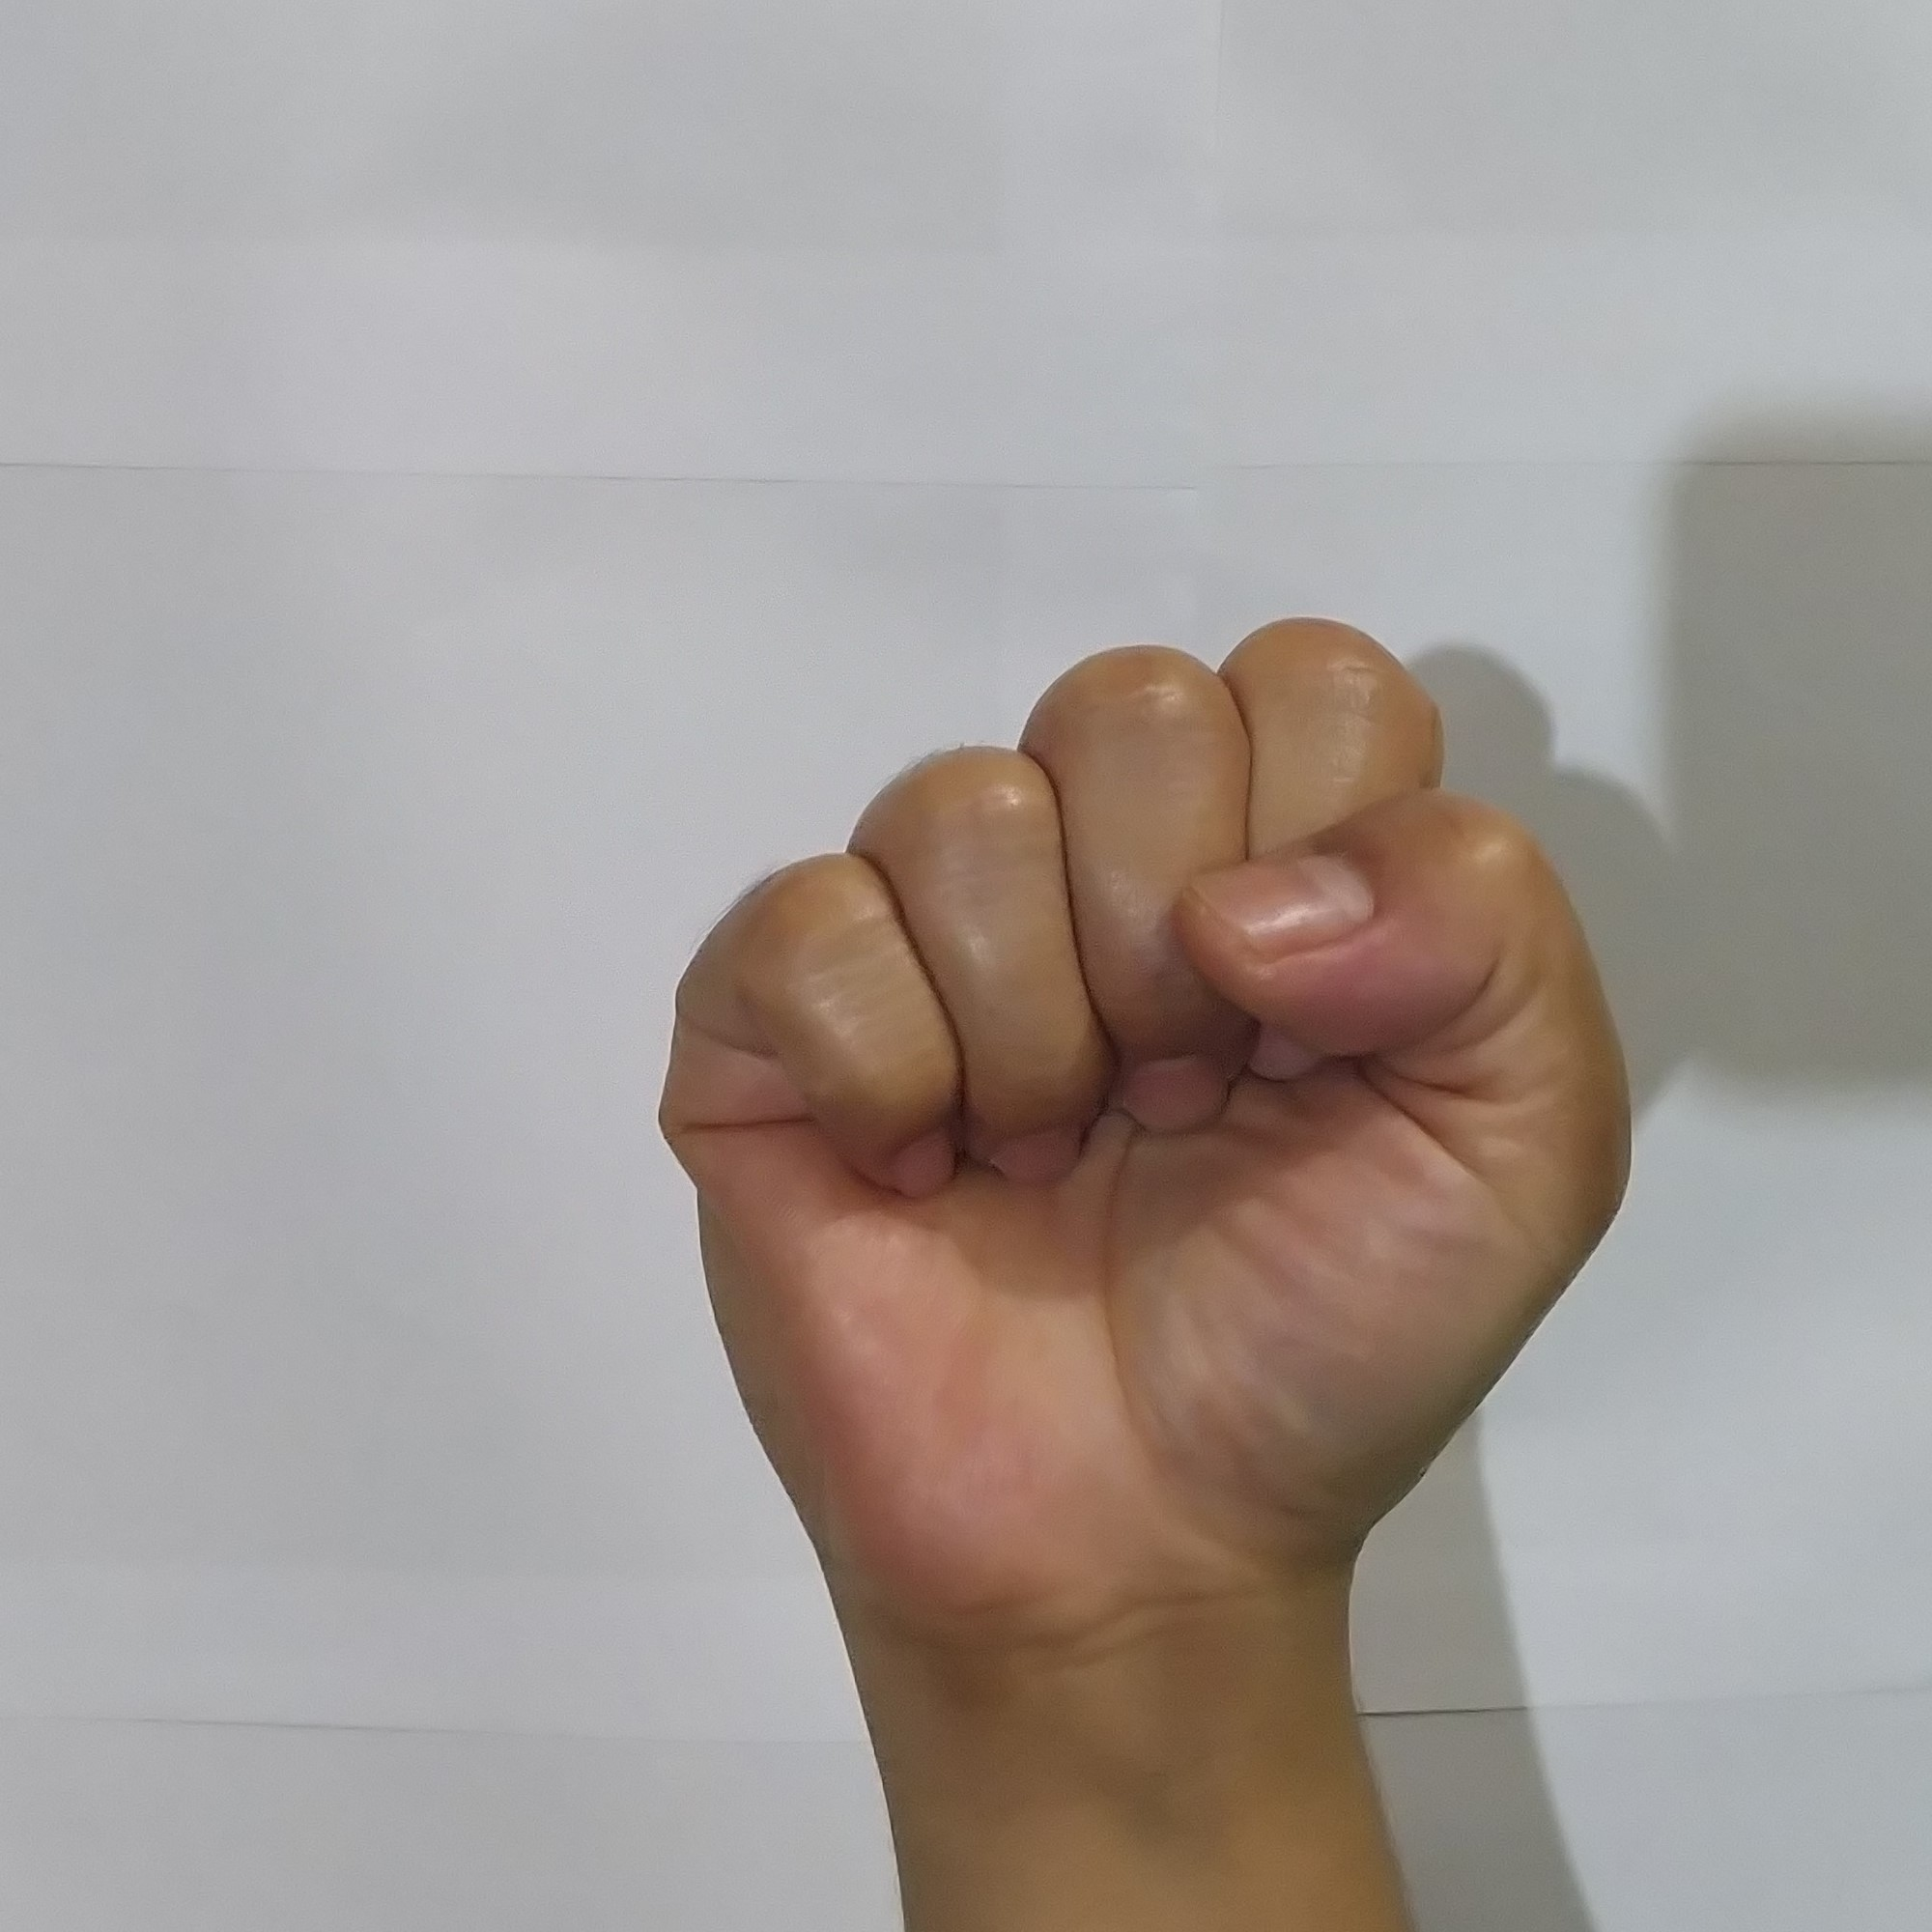S: (628, 587, 1665, 1610)
